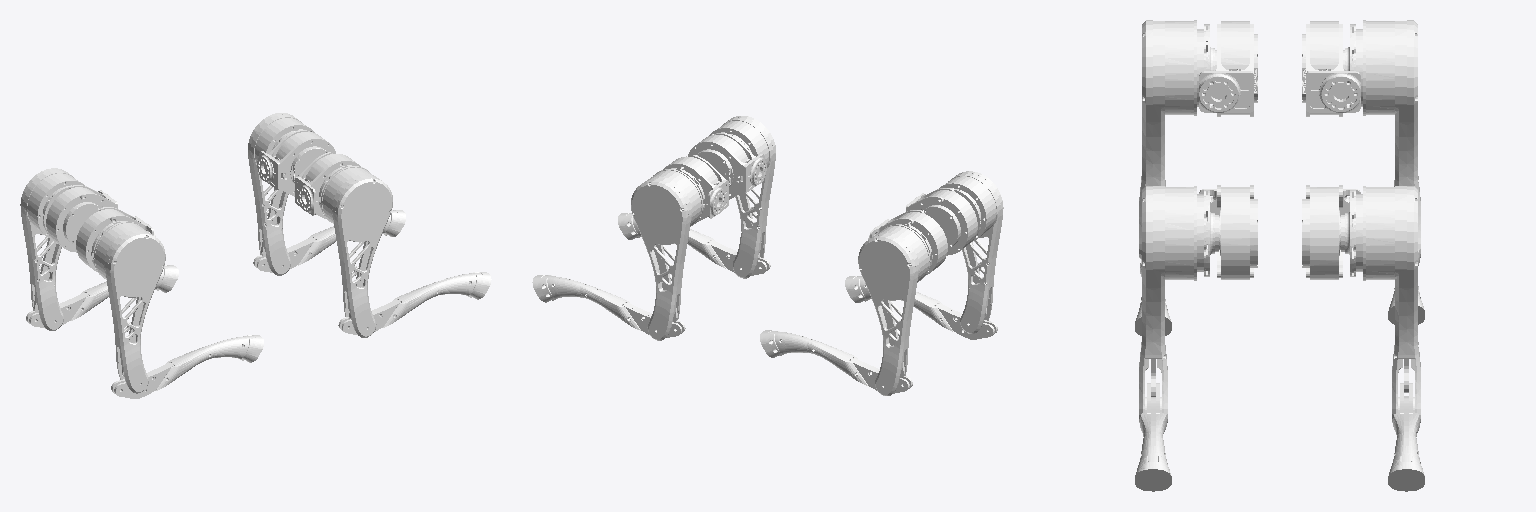
robot.urdf — TOE_dog3:
<?xml version="1.0" encoding="utf-8"?>
<!-- This URDF was automatically created by SolidWorks to URDF Exporter! Originally created by [author] ([email redacted]) 
     Commit Version: 1.6.0-4-g7f85cfe  Build Version: 1.6.7995.38578
     For more information, please see http://wiki.ros.org/sw_urdf_exporter -->
<robot
  name="TOE_dog3">
    <mujoco>
  <compiler 
    meshdir="[local-path]/isaac/t_s/quadruped_rl_blind_walk/legged_gym/resources/robots/TOE_dog3/meshes" 
    balanceinertia="true" 
    discardvisual="false" />
  </mujoco>
  <link
    name="base">
    <inertial>
      <origin
        xyz="-0.00349256695864725 0.000234910641451591 -0.0103465291224879"
        rpy="0 0 0" />
      <mass
        value="5.716" />
      <inertia
        ixx="0.024"
        ixy="0.001"
        ixz="-0.000"
        iyy="0.056"
        iyz="-0.000"
        izz="0.067" />
    </inertial>
    <visual>
      <origin
        xyz="0 0 0"
        rpy="0 0 0" />
      <geometry>
        <mesh
          filename="../stl/base_2.STL" />
      </geometry>
      <material
        name="">
        <color
          rgba="1 1 1 1" />
      </material>
    </visual>
    <collision>
      <origin
        xyz="0 0 0"
        rpy="0 0 0" />
      <geometry>
       <box size="0.27 0.126 0.1" />
      </geometry>
    </collision>
  </link>
  <link
    name="FL_hip">
    <inertial>
      <origin
        xyz="0.0544563981000604 -0.0122230494548459 -3.33185672222458E-05"
        rpy="0 0 0" />
      <mass
        value="0.729266" />
      <inertia
        ixx="0.000540"
        ixy="0.000010"
        ixz="0.000001"
        iyy="0.000972"
        iyz="0.000021"
        izz="0.000666" />
    </inertial>
    <visual>
      <origin
        xyz="0 0 0"
        rpy="0 0 0" />
      <geometry>
        <mesh
          filename="../stl/FL_hip.STL" />
      </geometry>
      <material
        name="">
        <color
          rgba="1 1 1 1" />
      </material>
    </visual>
    <collision>
      <origin rpy="1.5707963267948966 0 0" xyz="0.064 0.04 0" />
      <geometry>
        <cylinder length="0.08" radius="0.046" />
      </geometry>
    </collision>
  </link>
  <joint
    name="FL_hip_joint"
    type="revolute">
    <origin
      xyz="0.138 0.063 0"
      rpy="0 0 0" />
    <parent
      link="base" />
    <child
      link="FL_hip" />
    <axis
      xyz="1 0 0" />
    <limit
      lower="-1."
      upper="1."
      effort="20"
      velocity="40" />
  </joint>
  <link
    name="FL_thigh">
    <inertial>
      <origin
        xyz="-0.00209130800270174 -0.0157512217881884 -0.0357313445456687"
        rpy="0 0 0" />
      <mass
        value="1.005889" />
      <inertia
        ixx="0.004460"
        ixy="0.000038"
        ixz="-0.000154"
        iyy="0.004619"
        iyz="0.000793"
        izz="0.000968" />
    </inertial>
    <visual>
      <origin
        xyz="0 0 0"
        rpy="0 0 0" />
      <geometry>
        <mesh
          filename="../stl/FL_thigh.STL" />
      </geometry>
      <material
        name="">
        <color
          rgba="1 1 1 1" />
      </material>
    </visual>
    <collision>
      <origin rpy="0 1.5707963267948966 0" xyz="-0.015 0 -0.11" />
      <geometry>
        <box size="0.1 0.02 0.03" />
      </geometry>
    </collision>
  </link>
  <joint
    name="FL_thigh_joint"
    type="revolute">
    <origin
      xyz="0.064 0.0673 0"
      rpy="0 0 0" />
    <parent
      link="FL_hip" />
    <child
      link="FL_thigh" />
    <axis
      xyz="0 1 0" />
    <limit
      lower="-1.5"
      upper="2.5"
      effort="20"
      velocity="40" />
  </joint>
  <link
    name="FL_calf">
    <inertial>
      <origin
        xyz="0.008656739122546 -4.16362152565741E-05 -0.0952663894238618"
        rpy="0 0 0" />
      <mass
        value="0.196203" />
      <inertia
        ixx="0.001147"
        ixy="-0.000004"
        ixz="0.000050"
        iyy="0.001153"
        iyz="0.000080"
        izz="0.000032" />
    </inertial>
    <visual>
      <origin
        xyz="0 0 0"
        rpy="0 0 0" />
      <geometry>
        <mesh
          filename="../stl/calf.STL" />
      </geometry>
      <material
        name="">
        <color
          rgba="1 1 1 1" />
      </material>
    </visual>
    <collision>
      <origin rpy="0 -0.21 0" xyz="0.008 0 -0.06" />
      <geometry>
        <cylinder length="0.12" radius="0.01" />
      </geometry>
    </collision>
  </link>
  <joint
    name="FL_calf_joint"
    type="revolute">
    <origin
      xyz="0 0 -0.2"
      rpy="0 0 0" />
    <parent
      link="FL_thigh" />
    <child
      link="FL_calf" />
    <axis
      xyz="0 1 0" />
    <limit
      lower="-2.5"
      upper="-0.8"
      effort="20"
      velocity="40" />
  </joint>
  <link
    name="FL_calflower">
    <collision>
      <origin rpy="0 0 0" xyz="0 0 0" />
      <geometry>
        <cylinder length="0.065" radius="0.011" />
      </geometry>
    </collision>
  </link>
  <joint
    name="FL_calflower_joint"
    type="fixed">
    <origin
      xyz="0.020 0 -0.148"
      rpy="0 0.05 0" />
    <parent
      link="FL_calf" />
    <child
      link="FL_calflower" />
    <axis
      xyz="0 0 0" />
  </joint>
  <link
    name="FL_calflower1">
    <collision>
      <origin rpy="0 0 0" xyz="0 0 0" />
      <geometry>
        <cylinder length="0.03" radius="0.0155" />
      </geometry>
    </collision>
  </link>
  <joint
    name="FL_calflower1_joint"
    type="fixed">
    <origin
      xyz="-0.01 0 -0.04"
      rpy="0 0.48 0" />
    <parent
      link="FL_calflower" />
    <child
      link="FL_calflower1" />
    <axis
      xyz="0 0 0" />
  </joint>
  <link
    name="FL_foot">
    <inertial>
      <origin
        xyz="0 0 0"
        rpy="0 0 0" />
      <mass
        value="0.04" />
      <inertia
        ixx="9.6e-06"
        ixy="0"
        ixz="0"
        iyy="9.6e-06"
        iyz="0"
        izz="9.6e-06" />
    </inertial>
    <visual>
      <origin
        xyz="0 0 0"
        rpy="0 0 0" />
      <geometry>
        <mesh
          filename="../stl/TOE_foot.STL" />
      </geometry>
      <material
        name="">
        <color
          rgba="1 1 1 1" />
      </material>
    </visual>
    <collision>
      <origin rpy="0 0 0" xyz="-0.002 0 0" />
      <geometry>
        <sphere radius="0.022" />
      </geometry>
    </collision>
  </link>
  <joint
    name="FL_foot_joint"
    type="fixed" dont_collapse="true">
    <origin
      xyz="0 0 -0.213"
      rpy="0 0 0" />
    <parent
      link="FL_calf" />
    <child
      link="FL_foot" />
    <axis
      xyz="0 0 0" />
  </joint>
  <link
    name="FR_hip">
    <inertial>
      <origin
        xyz="0.0544563981000606 0.0122230494548458 3.33185672212188E-05"
        rpy="0 0 0" />
      <mass
        value="0.72926" />
      <inertia
        ixx="0.000540"
        ixy="-0.000011"
        ixz="-0.000000"
        iyy="0.000973"
        iyz="-0.000000"
        izz="0.000664" />
    </inertial>
    <visual>
      <origin
        xyz="0 0 0"
        rpy="0 0 0" />
      <geometry>
        <mesh
          filename="../stl/FR_hip.STL" />
      </geometry>
      <material
        name="">
        <color
          rgba="1 1 1 1" />
      </material>
    </visual>
    <collision>
      <origin rpy="1.5707963267948966 0 0" xyz="0.064 -0.04 0" />
      <geometry>
        <cylinder length="0.08" radius="0.046" />
      </geometry>
    </collision>
  </link>
  <joint
    name="FR_hip_joint"
    type="revolute">
    <origin
      xyz="0.138 -0.063 0"
      rpy="0 0 0" />
    <parent
      link="base" />
    <child
      link="FR_hip" />
    <axis
      xyz="1 0 0" />
    <limit
      lower="-1."
      upper="1."
      effort="20"
      velocity="40" />
  </joint>
  <link
    name="FR_thigh">
    <inertial>
      <origin
        xyz="-0.00179872498750472 0.0157556929216269 -0.036136855994278"
        rpy="0 0 0" />
      <mass
        value="1.020690" />
      <inertia
        ixx="0.004591"
        ixy="-0.000021"
        ixz="-0.0001515"
        iyy="0.004849"
        iyz="-0.000536"
        izz="0.000892" />
    </inertial>
    <visual>
      <origin
        xyz="0 0 0"
        rpy="0 0 0" />
      <geometry>
        <mesh
          filename="../stl/FR_thigh.STL" />
      </geometry>
      <material
        name="">
        <color
          rgba="1 1 1 1" />
      </material>
    </visual>
    <collision>
      <origin rpy="0 1.5707963267948966 0" xyz="-0.015 0 -0.11" />
      <geometry>
        <box size="0.1 0.02 0.03" />
      </geometry>
    </collision>
  </link>
  <joint
    name="FR_thigh_joint"
    type="revolute">
    <origin
      xyz="0.064 -0.0673 0"
      rpy="0 0 0" />
    <parent
      link="FR_hip" />
    <child
      link="FR_thigh" />
    <axis
      xyz="0 1 0" />
    <limit
      lower="-1.5"
      upper="2.5"
      effort="20"
      velocity="40" />
  </joint>
  <link
    name="FR_calf">
    <inertial>
      <origin
        xyz="0.00865673912254511 -4.16362152562133E-05 -0.0952663894238544"
        rpy="0 0 0" />
      <mass
        value="0.196203" />
      <inertia
        ixx="0.001147"
        ixy="-0.000000"
        ixz="0.000050"
        iyy="0.001159"
        iyz="-0.000001"
        izz="0.000026" />
    </inertial>
    <visual>
      <origin
        xyz="0 0 0"
        rpy="0 0 0" />
      <geometry>
        <mesh
          filename="../stl/calf.STL" />
      </geometry>
      <material
        name="">
        <color
          rgba="1 1 1 1" />
      </material>
    </visual>
    <collision>
      <origin rpy="0 -0.2 0" xyz="0.01 0 -0.06" />
      <geometry>
        <cylinder length="0.12" radius="0.01" />
      </geometry>
    </collision>
  </link>
  <joint
    name="FR_calf_joint"
    type="revolute">
    <origin
      xyz="0 0 -0.2"
      rpy="0 0 0" />
    <parent
      link="FR_thigh" />
    <child
      link="FR_calf" />
    <axis
      xyz="0 1 0" />
    <limit
      lower="-2.5"
      upper="-0.8"
      effort="20"
      velocity="40" />
  </joint>
  <link
    name="FR_calflower">
    <collision>
      <origin rpy="0 0 0" xyz="0 0 0" />
      <geometry>
        <cylinder length="0.065" radius="0.011" />
      </geometry>
    </collision>
  </link>
  <joint
    name="FR_calflower_joint"
    type="fixed">
    <origin
      xyz="0.020 0 -0.148"
      rpy="0 0.05 0" />
    <parent
      link="FR_calf" />
    <child
      link="FR_calflower" />
    <axis
      xyz="0 0 0" />
  </joint>
  <link
    name="FR_calflower1">
    <collision>
      <origin rpy="0 0 0" xyz="0 0 0" />
      <geometry>
        <cylinder length="0.03" radius="0.0155" />
      </geometry>
    </collision>
  </link>
  <joint
    name="FR_calflower1_joint"
    type="fixed">
    <origin
      xyz="-0.01 0 -0.04"
      rpy="0 0.48 0" />
    <parent
      link="FR_calflower" />
    <child
      link="FR_calflower1" />
    <axis
      xyz="0 0 0" />
  </joint>
  <link
    name="FR_foot">
    <inertial>
      <origin
        xyz="0 0 0"
        rpy="0 0 0" />
      <mass
        value="0.04" />
      <inertia
        ixx="9.6e-06"
        ixy="0"
        ixz="0"
        iyy="9.6e-06"
        iyz="0"
        izz="9.6e-06" />
    </inertial>
    <visual>
      <origin
        xyz="0 0 0"
        rpy="0 0 0" />
      <geometry>
        <mesh
          filename="../stl/TOE_foot.STL" />
      </geometry>
      <material
        name="">
        <color
          rgba="1 1 1 1" />
      </material>
    </visual>
    <collision>
      <origin rpy="0 0 0" xyz="-0.002 0 0" />
      <geometry>
        <sphere radius="0.022" />
      </geometry>
    </collision>
  </link>
  <joint
    name="FR_foot_joint"
    type="fixed" dont_collapse="true">
    <origin
      xyz="0 0 -0.213"
      rpy="0 0 0" />
    <parent
      link="FR_calf" />
    <child
      link="FR_foot" />
    <axis
      xyz="0 0 0" />
  </joint>
  <link
    name="RL_hip">
    <inertial>
      <origin
        xyz="-0.0544563980901655 -0.0122230494514425 3.331856620023E-05"
        rpy="0 0 0" />
      <mass
        value="0.729266" />
      <inertia
        ixx="0.000540"
        ixy="-0.000011"
        ixz="-0.000000"
        iyy="0.000973"
        iyz="0.000001"
        izz="0.000664" />
    </inertial>
    <visual>
      <origin
        xyz="0 0 0"
        rpy="0 0 0" />
      <geometry>
        <mesh
          filename="../stl/RL_hip.STL" />
      </geometry>
      <material
        name="">
        <color
          rgba="1 1 1 1" />
      </material>
    </visual>
    <collision>
      <origin rpy="1.5707963267948966 0 0" xyz="-0.064 0.04 0" />
      <geometry>
        <cylinder length="0.08" radius="0.046" />
      </geometry>
    </collision>
  </link>
  <joint
    name="RL_hip_joint"
    type="revolute">
    <origin
      xyz="-0.136 0.063 0"
      rpy="0 0 0" />
    <parent
      link="base" />
    <child
      link="RL_hip" />
    <axis
      xyz="1 0 0" />
    <limit
      lower="-1."
      upper="1."
      effort="20"
      velocity="40" />
  </joint>
  <link
    name="RL_thigh">
    <inertial>
      <origin
        xyz="-0.00209130801473683 -0.0157512217880365 -0.0357313445606814"
        rpy="0 0 0" />
      <mass
        value="1.005889" />
      <inertia
        ixx="0.004460"
        ixy="0.000027"
        ixz="-0.000156"
        iyy="0.004714"
        iyz="0.000524"
        izz="0.000873" />
    </inertial>
    <visual>
      <origin
        xyz="0 0 0"
        rpy="0 0 0" />
      <geometry>
        <mesh
          filename="../stl/RL_thigh.STL" />
      </geometry>
      <material
        name="">
        <color
          rgba="1 1 1 1" />
      </material>
    </visual>
    <collision>
      <origin rpy="0 1.5707963267948966 0" xyz="-0.015 0 -0.11" />
      <geometry>
        <box size="0.1 0.02 0.03" />
      </geometry>
    </collision>
  </link>
  <joint
    name="RL_thigh_joint"
    type="revolute">
    <origin
      xyz="-0.064 0.0673 0"
      rpy="0 0 0" />
    <parent
      link="RL_hip" />
    <child
      link="RL_thigh" />
    <axis
      xyz="0 1 0" />
    <limit
      lower="-1.5"
      upper="2.5"
      effort="20"
      velocity="40" />
  </joint>
  <link
    name="RL_calf">
    <inertial>
      <origin
        xyz="0.00865673912254477 -4.16362152587946E-05 -0.095266389423857"
        rpy="0 0 0" />
      <mass
        value="0.196203" />
      <inertia
        ixx="0.001147"
        ixy="0.000000"
        ixz="0.000050"
        iyy="0.001159"
        iyz="-0.000001"
        izz="0.000026" />
    </inertial>
    <visual>
      <origin
        xyz="0 0 0"
        rpy="0 0 0" />
      <geometry>
        <mesh
          filename="../stl/calf.STL" />
      </geometry>
      <material
        name="">
        <color
          rgba="1 1 1 1" />
      </material>
    </visual>
    <collision>
      <origin rpy="0 -0.2 0" xyz="0.01 0 -0.06" />
      <geometry>
        <cylinder length="0.12" radius="0.01" />
      </geometry>
    </collision>
  </link>
  <joint
    name="RL_calf_joint"
    type="revolute">
    <origin
      xyz="0 0 -0.2"
      rpy="0 0 0" />
    <parent
      link="RL_thigh" />
    <child
      link="RL_calf" />
    <axis
      xyz="0 1 0" />
    <limit
      lower="-2.5"
      upper="-0.8"
      effort="20"
      velocity="40" />
  </joint>
  <link
    name="RL_calflower">
    <collision>
      <origin rpy="0 0 0" xyz="0 0 0" />
      <geometry>
        <cylinder length="0.065" radius="0.011" />
      </geometry>
    </collision>
  </link>
  <joint
    name="RL_calflower_joint"
    type="fixed">
    <origin
      xyz="0.020 0 -0.148"
      rpy="0 0.05 0" />
    <parent
      link="RL_calf" />
    <child
      link="RL_calflower" />
    <axis
      xyz="0 0 0" />
  </joint>
  <link
    name="RL_calflower1">
    <collision>
      <origin rpy="0 0 0" xyz="0 0 0" />
      <geometry>
        <cylinder length="0.03" radius="0.0155" />
      </geometry>
    </collision>
  </link>
  <joint
    name="RL_calflower1_joint"
    type="fixed">
    <origin
      xyz="-0.01 0 -0.04"
      rpy="0 0.48 0" />
    <parent
      link="RL_calflower" />
    <child
      link="RL_calflower1" />
    <axis
      xyz="0 0 0" />
  </joint>
  <link
    name="RL_foot">
    <inertial>
      <origin
        xyz="0 0 0"
        rpy="0 0 0" />
      <mass
        value="0.04" />
      <inertia
        ixx="9.6e-06"
        ixy="0"
        ixz="0"
        iyy="9.6e-06"
        iyz="0"
        izz="9.6e-06" />
    </inertial>
    <visual>
      <origin
        xyz="0 0 0"
        rpy="0 0 0" />
      <geometry>
        <mesh
          filename="../stl/TOE_foot.STL" />
      </geometry>
      <material
        name="">
        <color
          rgba="1 1 1 1" />
      </material>
    </visual>
    <collision>
      <origin rpy="0 0 0" xyz="-0.002 0 0" />
      <geometry>
        <sphere radius="0.022" />
      </geometry>
    </collision>
  </link>
  <joint
    name="RL_foot_joint"
    type="fixed" dont_collapse="true">
    <origin
      xyz="0 0 -0.213"
      rpy="0 0 0" />
    <parent
      link="RL_calf" />
    <child
      link="RL_foot" />
    <axis
      xyz="0 0 0" />
  </joint>
  <link
    name="RR_hip">
    <inertial>
      <origin
        xyz="-0.0544563980901653 0.0122230494514429 -3.3318566200452E-05"
        rpy="0 0 0" />
      <mass
        value="0.729266" />
      <inertia
        ixx="0.000540"
        ixy="0.000011"
        ixz="-0.000000"
        iyy="0.000973"
        iyz="0.000001"
        izz="0.000664" />
    </inertial>
    <visual>
      <origin
        xyz="0 0 0"
        rpy="0 0 0" />
      <geometry>
        <mesh
          filename="../stl/RR_hip.STL" />
      </geometry>
      <material
        name="">
        <color
          rgba="1 1 1 1" />
      </material>
    </visual>
    <collision>
      <origin rpy="1.5707963267948966 0 0" xyz="-0.064 -0.04 0" />
      <geometry>
        <cylinder length="0.08" radius="0.046" />
      </geometry>
    </collision>
  </link>
  <joint
    name="RR_hip_joint"
    type="revolute">
    <origin
      xyz="-0.136 -0.063 0"
      rpy="0 0 0" />
    <parent
      link="base" />
    <child
      link="RR_hip" />
    <axis
      xyz="1 0 0" />
    <limit
      lower="-1."
      upper="1."
      effort="20"
      velocity="40" />
  </joint>
  <link
    name="RR_thigh">
    <inertial>
      <origin
        xyz="-0.00179872498747159 0.0157556929216544 -0.0361368559942862"
        rpy="0 0 0" />
      <mass
        value="1.02069" />
      <inertia
        ixx="0.004591"
        ixy="-0.000021"
        ixz="-0.000151"
        iyy="0.004849"
        iyz="-0.000536"
        izz="0.000892" />
    </inertial>
    <visual>
      <origin
        xyz="0 0 0"
        rpy="0 0 0" />
      <geometry>
        <mesh
          filename="../stl/RR_thigh.STL" />
      </geometry>
      <material
        name="">
        <color
          rgba="1 1 1 1" />
      </material>
    </visual>
    <collision>
      <origin rpy="0 1.5707963267948966 0" xyz="-0.015 0 -0.11" />
      <geometry>
        <box size="0.1 0.02 0.03" />
      </geometry>
    </collision>
  </link>
  <joint
    name="RR_thigh_joint"
    type="revolute">
    <origin
      xyz="-0.064 -0.0673 0"
      rpy="0 0 0" />
    <parent
      link="RR_hip" />
    <child
      link="RR_thigh" />
    <axis
      xyz="0 1 0" />
    <limit
      lower="-1.5"
      upper="2.5"
      effort="20"
      velocity="40" />
  </joint>
  <link
    name="RR_calf">
    <inertial>
      <origin
        xyz="0.00865673912254452 -4.16362152563798E-05 -0.0952663894238475"
        rpy="0 0 0" />
      <mass
        value="0.196203" />
      <inertia
        ixx="0.001147"
        ixy="-0.000000"
        ixz="0.000050"
        iyy="0.001159"
        iyz="-0.000001"
        izz="0.000026" />
    </inertial>
    <visual>
      <origin
        xyz="0 0 0"
        rpy="0 0 0" />
      <geometry>
        <mesh
          filename="../stl/calf.STL" />
      </geometry>
      <material
        name="">
        <color
          rgba="1 1 1 1" />
      </material>
    </visual>
    <collision>
      <origin rpy="0 -0.2 0" xyz="0.01 0 -0.06" />
      <geometry>
        <cylinder length="0.12" radius="0.01" />
      </geometry>
    </collision>
  </link>
  <joint
    name="RR_calf_joint"
    type="revolute">
    <origin
      xyz="0 0 -0.213"
      rpy="0 0 0" />
    <parent
      link="RR_thigh" />
    <child
      link="RR_calf" />
    <axis
      xyz="0 1 0" />
    <limit
      lower="-2.5"
      upper="-0.8"
      effort="20"
      velocity="40" />
  </joint>
  <link
    name="RR_calflower">
    <collision>
      <origin rpy="0 0 0" xyz="0 0 0" />
      <geometry>
        <cylinder length="0.065" radius="0.011" />
      </geometry>
    </collision>
  </link>
  <joint
    name="RR_calflower_joint"
    type="fixed">
    <origin
      xyz="0.020 0 -0.148"
      rpy="0 0.05 0" />
    <parent
      link="RR_calf" />
    <child
      link="RR_calflower" />
    <axis
      xyz="0 0 0" />
  </joint>
  <link
    name="RR_calflower1">
    <collision>
      <origin rpy="0 0 0" xyz="0 0 0" />
      <geometry>
        <cylinder length="0.03" radius="0.0155" />
      </geometry>
    </collision>
  </link>
  <joint
    name="RR_calflower1_joint"
    type="fixed">
    <origin
      xyz="-0.01 0 -0.04"
      rpy="0 0.48 0" />
    <parent
      link="RR_calflower" />
    <child
      link="RR_calflower1" />
    <axis
      xyz="0 0 0" />
  </joint>
  <link
    name="RR_foot">
    <inertial>
      <origin
        xyz="0 0 0"
        rpy="0 0 0" />
      <mass
        value="0.04" />
      <inertia
        ixx="9.6e-06"
        ixy="0"
        ixz="0"
        iyy="9.6e-06"
        iyz="0"
        izz="9.6e-06" />
    </inertial>
    <visual>
      <origin
        xyz="0 0 0"
        rpy="0 0 0" />
      <geometry>
        <mesh
          filename="../stl/TOE_foot.STL" />
      </geometry>
      <material
        name="">
        <color
          rgba="1 1 1 1" />
      </material>
    </visual>
    <collision>
      <origin rpy="0 0 0" xyz="-0.002 0 0" />
      <geometry>
        <sphere radius="0.022" />
      </geometry>
    </collision>
  </link>
  <joint
    name="RR_foot_joint"
    type="fixed" dont_collapse="true">
    <origin
      xyz="0 0 -0.213"
      rpy="0 0 0" />
    <parent
      link="RR_calf" />
    <child
      link="RR_foot" />
    <axis
      xyz="0 0 0" />
  </joint>
    <link
    name="imu">
    <inertial>
      <origin
        xyz="0 0 0"
        rpy="0 0 0" />
      <mass
        value="0" />
      <inertia
        ixx="0"
        ixy="0"
        ixz="0"
        iyy="0"
        iyz="0"
        izz="0" />
    </inertial>
  </link>
    <joint
    name="imu_joint"
    type="fixed">
    <origin
      xyz="0. 0 0."
      rpy="0 0 0" />
    <parent
      link="base" />
    <child
      link="imu" />
    <axis
      xyz="0 0 0" />
  </joint>
</robot>

--- Render facts (derived) ---
3 views of the same robot in one strip: view 1: azimuth 30°, elevation 25°; view 2: azimuth 150°, elevation 25°; view 3: azimuth 270°, elevation 25° (orthographic).
Robot: TOE_dog3 — 26 links, 25 joints (12 revolute, 13 fixed); root link base; default pose: all joints at 0 but 4 set to mid-range because 0 is outside their limits (FL_calf_joint = -1.65, FR_calf_joint = -1.65, RL_calf_joint = -1.65, RR_calf_joint = -1.65).
Links seen in each view (by area): view 1: RR_thigh, FR_thigh, RL_thigh, FL_thigh, FL_hip, RR_calf, RL_hip, FR_calf, FR_hip, RL_calf, FL_calf, RR_hip; view 2: RL_thigh, FL_thigh, RR_thigh, FR_thigh, FR_hip, RR_hip, RL_calf, FL_calf, RR_calf, FL_hip, FR_calf, RL_hip; view 3: FR_thigh, FL_thigh, RR_thigh, RL_thigh, RL_hip, RR_hip, FR_hip, FL_hip, FL_calf, FR_calf.
Link boxes in pixels (x1,y1,x2,y2): RR_thigh: (93, 221, 165, 393); FR_thigh: (320, 166, 392, 337); RL_thigh: (20, 168, 84, 330); FL_thigh: (248, 113, 314, 275); FL_hip: (257, 130, 335, 196); RR_calf: (111, 335, 263, 398); RL_hip: (43, 185, 117, 252); FR_calf: (338, 272, 491, 334); FR_hip: (295, 152, 360, 218); RL_calf: (26, 265, 178, 328); FL_calf: (253, 210, 405, 272); RR_hip: (76, 207, 155, 271); RL_thigh: (858, 224, 930, 395); FL_thigh: (631, 169, 703, 340); RR_thigh: (939, 171, 1003, 333); FR_thigh: (709, 116, 775, 278); FR_hip: (688, 133, 766, 199); RR_hip: (906, 188, 980, 255); RL_calf: (760, 330, 912, 393); FL_calf: (532, 275, 685, 337); RR_calf: (845, 276, 997, 339); FL_hip: (663, 155, 728, 221); FR_calf: (618, 213, 770, 275); RL_hip: (868, 210, 947, 274); FR_thigh: (1139, 186, 1207, 422); FL_thigh: (1352, 186, 1420, 422); RR_thigh: (1139, 20, 1207, 259); RL_thigh: (1352, 20, 1420, 257); RL_hip: (1302, 21, 1360, 116); RR_hip: (1199, 21, 1257, 116); FR_hip: (1199, 185, 1257, 279); FL_hip: (1302, 185, 1360, 279); FL_calf: (1388, 383, 1424, 491); FR_calf: (1135, 383, 1171, 491).
Size in the robot's own frame: 0.6728 by 0.2987 by 0.279 metres.
12 mesh visuals loaded from 11 distinct referenced files (9 binary STL); not drawn: 5 (reference not matched to a file when rendering).
